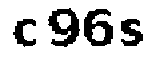6: (84, 5, 114, 51)
9: (46, 6, 81, 49)
c: (10, 16, 41, 48)
s: (119, 16, 145, 49)
